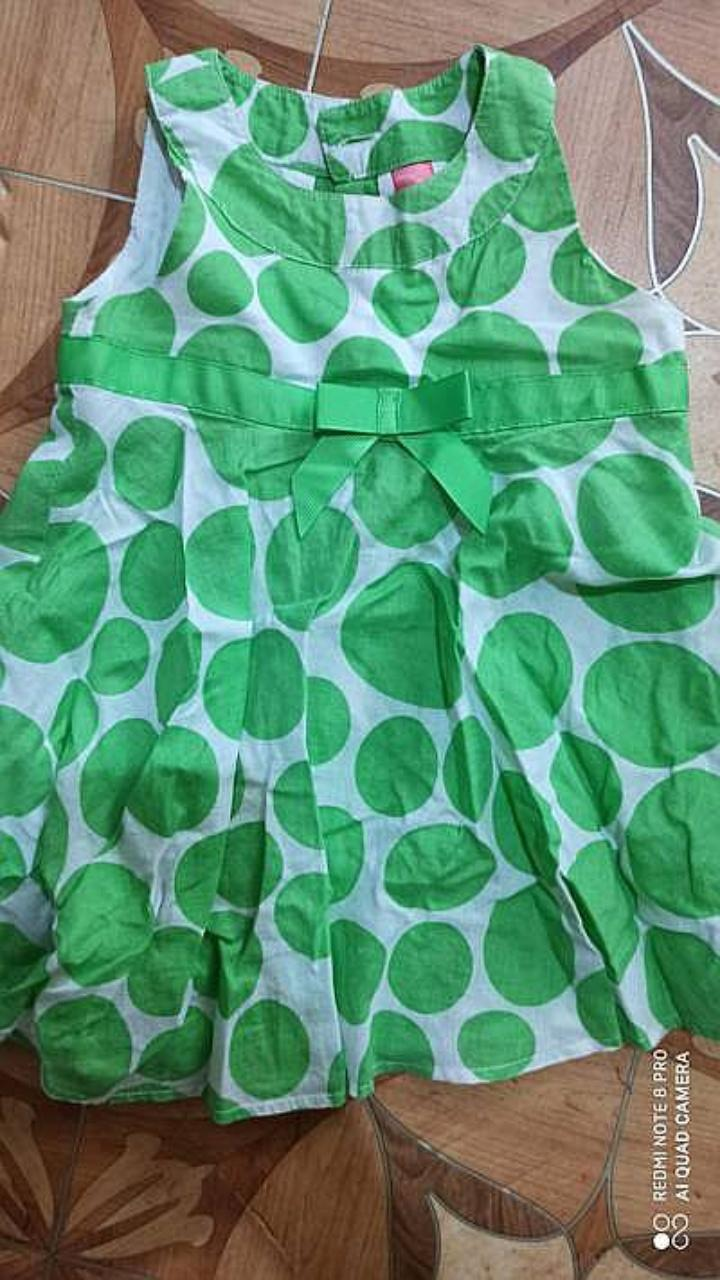Dresses: (0, 44, 719, 1121)
